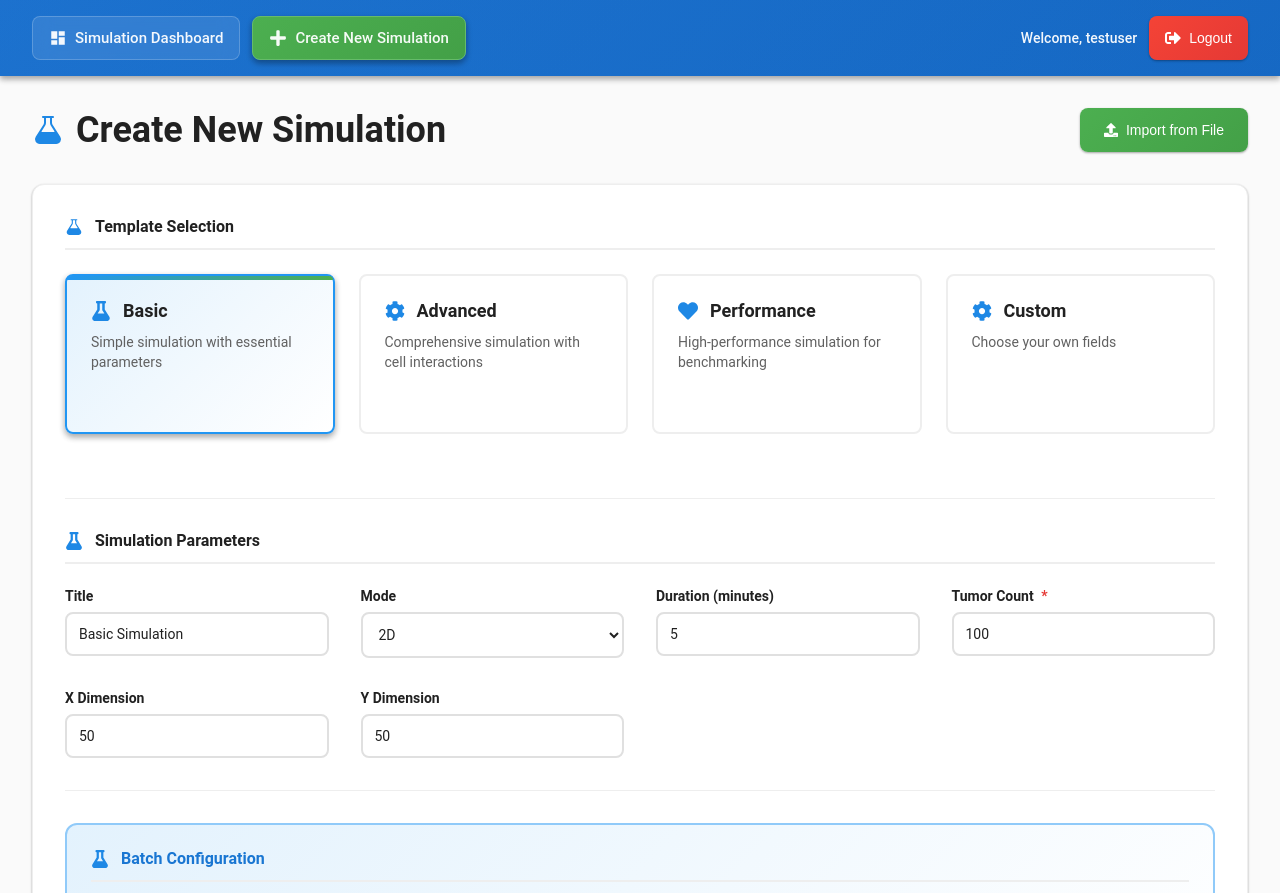
Test: CreateSimulation Component › changes fields when different template is selected
Click the radio button showing "advanced".
click(493, 354)  # box x1=358 y1=274 x2=628 y2=434
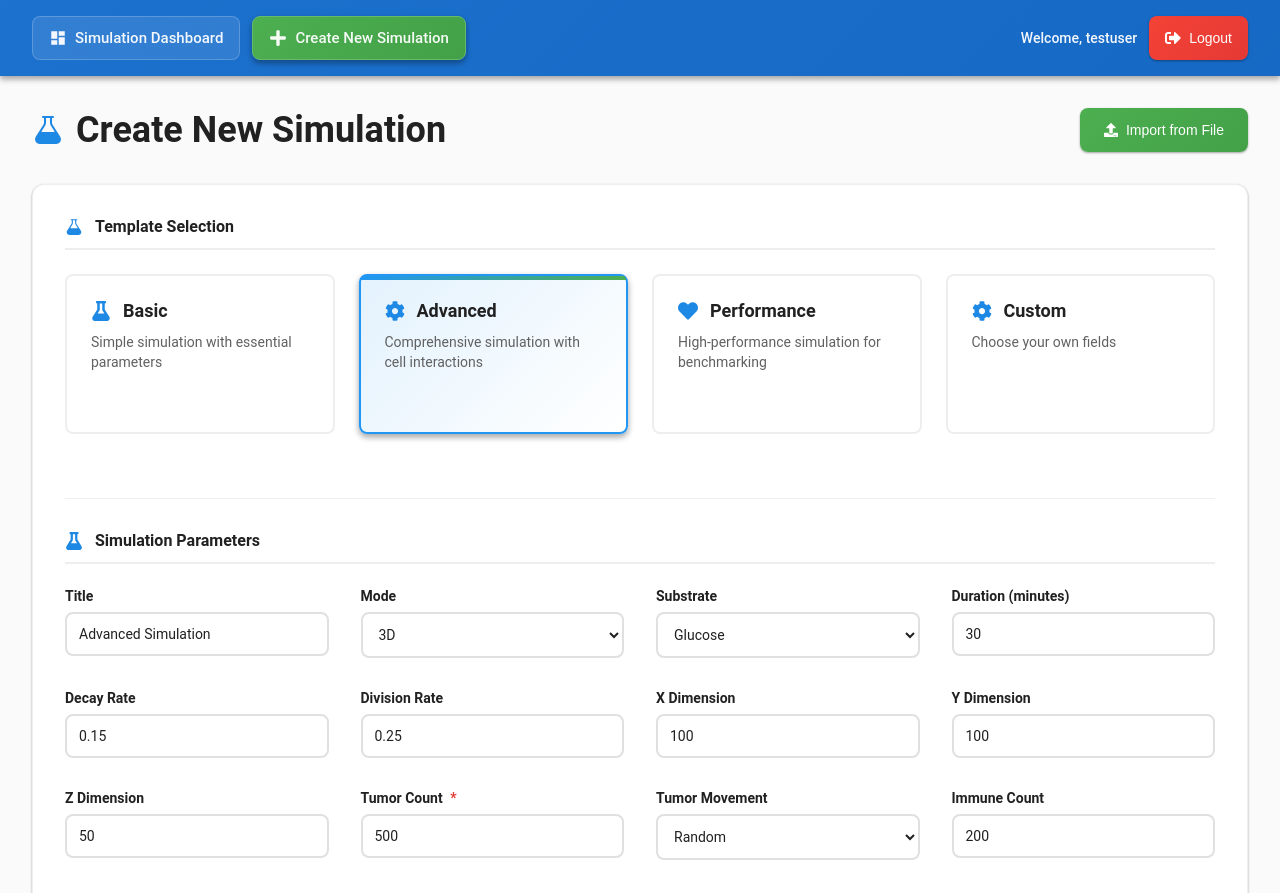
Now the field showing "Advanced Simulation" is shown, box x1=65 y1=612 x2=328 y2=656
Now the number field showing "30" is shown, box x1=952 y1=612 x2=1215 y2=656
Now the number field showing "500" is shown, box x1=360 y1=814 x2=624 y2=858
